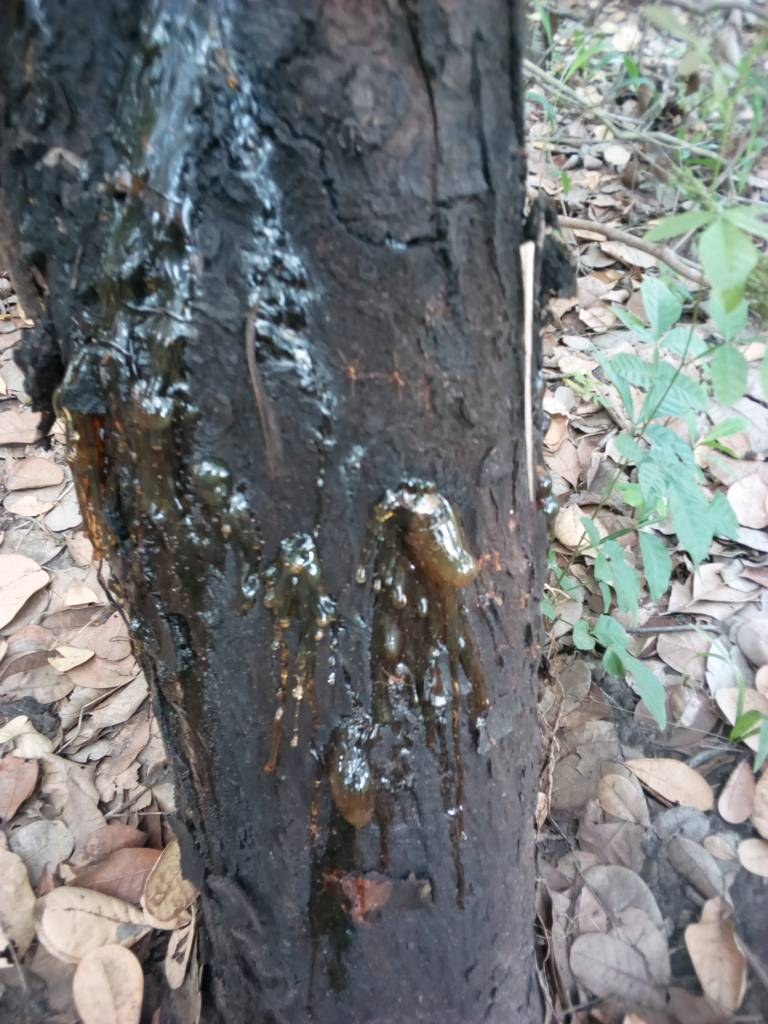Gommose: (63, 3, 341, 822), (346, 488, 490, 803)
